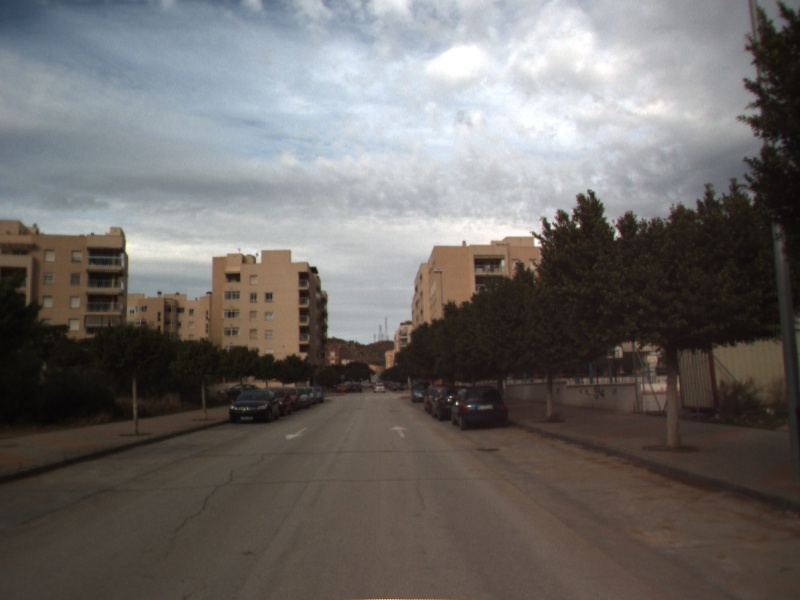STRAIGHT: (388, 423, 410, 439)
